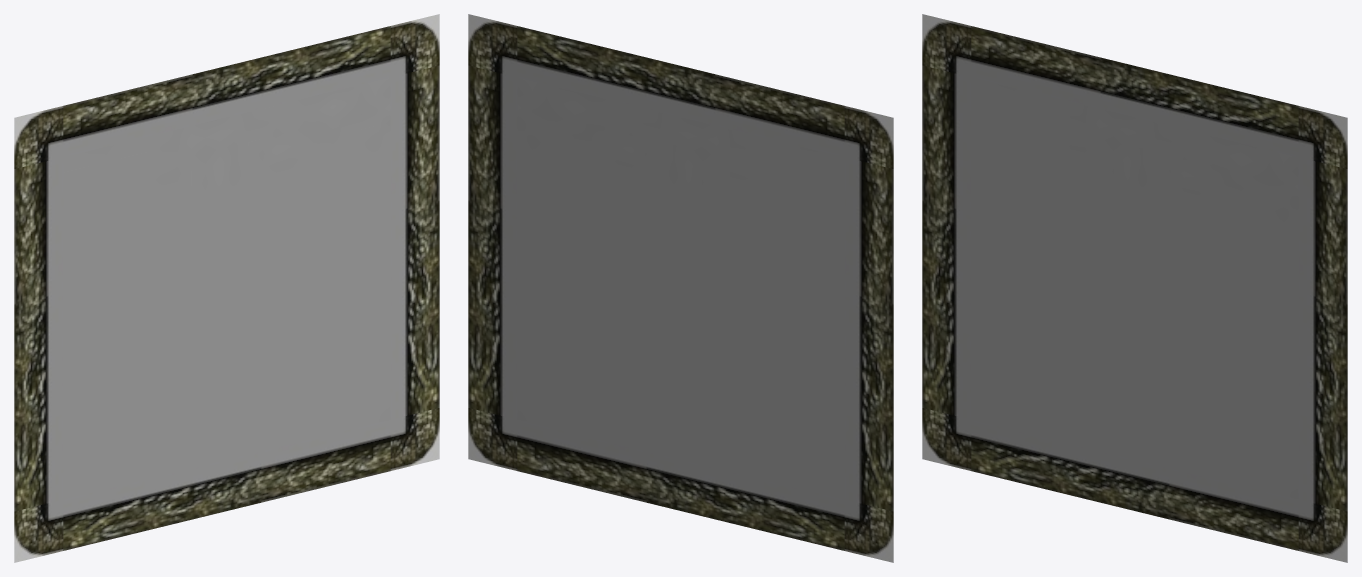
Rendered from SpeedChatPanel.fbx.
The picture shows the model from 3 angles, left to right: view 1: azimuth 30°, elevation 25°; view 2: azimuth 150°, elevation 25°; view 3: azimuth 330°, elevation 25°; orthographic projection.
Parts seen in each view (by area): view 1: MiddleMesh, Leftmesh, Rightmesh, TopMesh, BottomMesh, TopLeftmesh, BottomRightMesh, TopRightMesh, BottomLeftMesh; view 2: MiddleMesh, Leftmesh, Rightmesh, TopMesh, BottomMesh, TopLeftmesh, BottomRightMesh, TopRightMesh, BottomLeftMesh; view 3: MiddleMesh, Leftmesh, Rightmesh, TopMesh, BottomMesh, TopRightMesh, BottomLeftMesh, TopLeftmesh, BottomRightMesh.
Part boxes in pixels (bbox=[...]): MiddleMesh: bbox=[63, 77, 390, 499]; Leftmesh: bbox=[14, 157, 63, 511]; Rightmesh: bbox=[390, 65, 439, 419]; TopMesh: bbox=[63, 26, 390, 156]; BottomMesh: bbox=[63, 420, 390, 550]; TopLeftmesh: bbox=[14, 106, 63, 168]; BottomRightMesh: bbox=[390, 408, 439, 470]; TopRightMesh: bbox=[390, 14, 439, 76]; BottomLeftMesh: bbox=[14, 500, 63, 562]; MiddleMesh: bbox=[517, 77, 844, 499]; Leftmesh: bbox=[844, 157, 893, 511]; Rightmesh: bbox=[468, 65, 517, 419]; TopMesh: bbox=[517, 26, 844, 156]; BottomMesh: bbox=[517, 420, 844, 550]; TopLeftmesh: bbox=[844, 106, 893, 168]; BottomRightMesh: bbox=[468, 408, 517, 470]; TopRightMesh: bbox=[468, 14, 517, 76]; BottomLeftMesh: bbox=[844, 500, 893, 562]; MiddleMesh: bbox=[971, 77, 1298, 499]; Leftmesh: bbox=[922, 65, 971, 419]; Rightmesh: bbox=[1298, 157, 1347, 511]; TopMesh: bbox=[971, 26, 1298, 156]; BottomMesh: bbox=[971, 420, 1298, 550]; TopRightMesh: bbox=[1298, 106, 1347, 168]; BottomLeftMesh: bbox=[922, 408, 971, 470]; TopLeftmesh: bbox=[922, 14, 971, 76]; BottomRightMesh: bbox=[1298, 500, 1347, 562].
Size of the model in its own units: 130 by 130 by 2.12e-05.
1 material, 1 textured.
